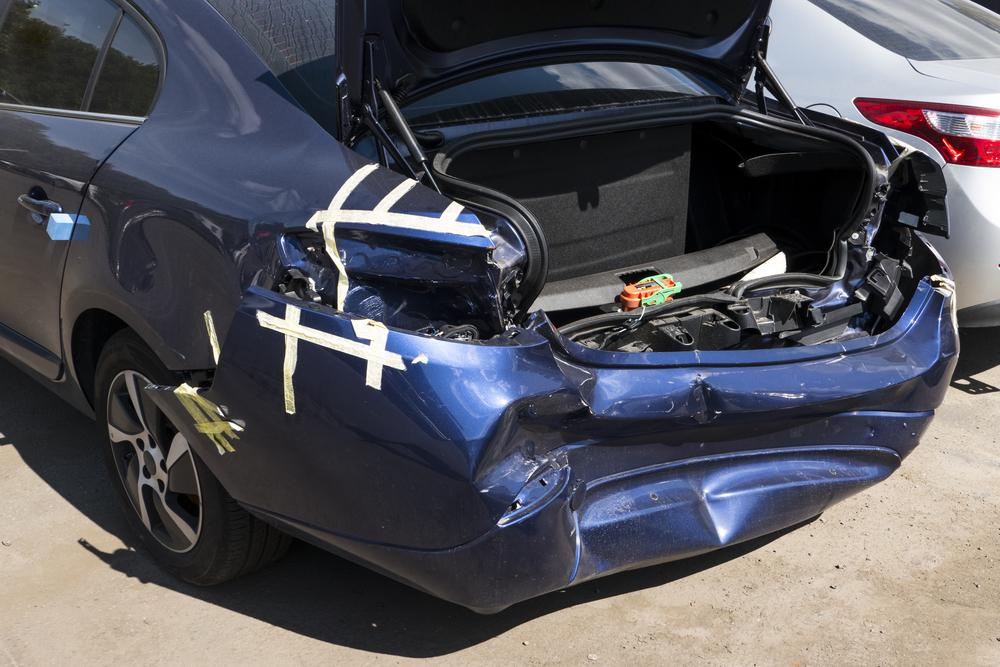dent: (471, 357, 898, 579)
